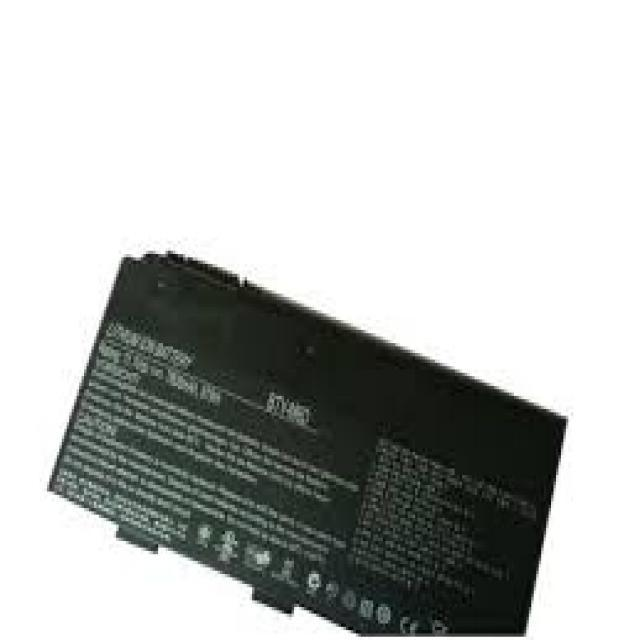battery: (44, 250, 568, 640)
